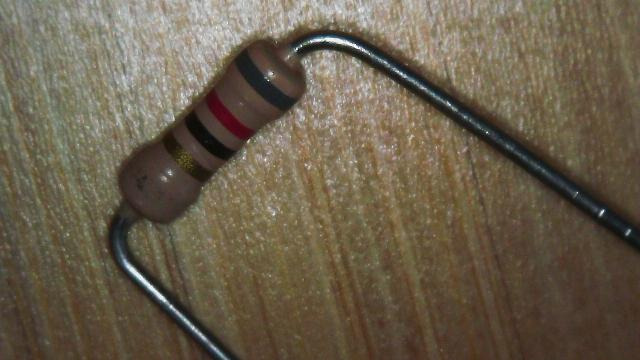black: (182, 110, 235, 160)
gold: (162, 132, 211, 182)
grey: (234, 50, 294, 112)
red: (205, 89, 254, 140)
resistor: (81, 15, 327, 252)
